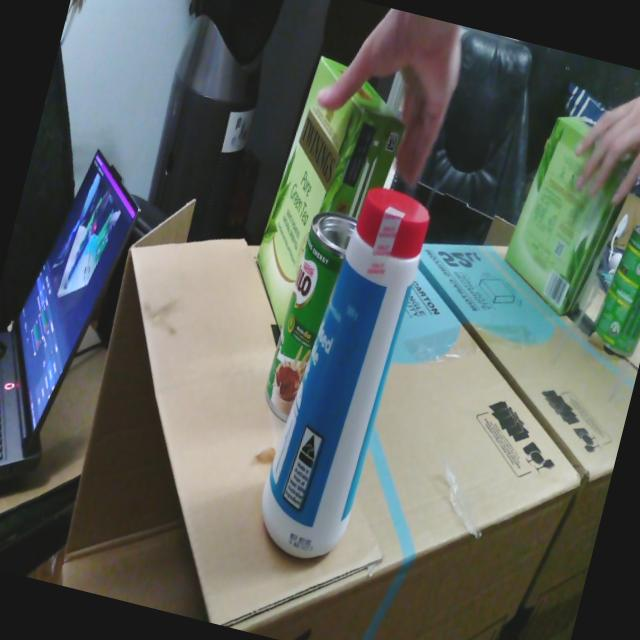nestle_milo_tin: (265, 212, 357, 422)
twinings_greentea_box: (257, 56, 405, 332)
woolworths_salt_bottle: (261, 187, 429, 558)
